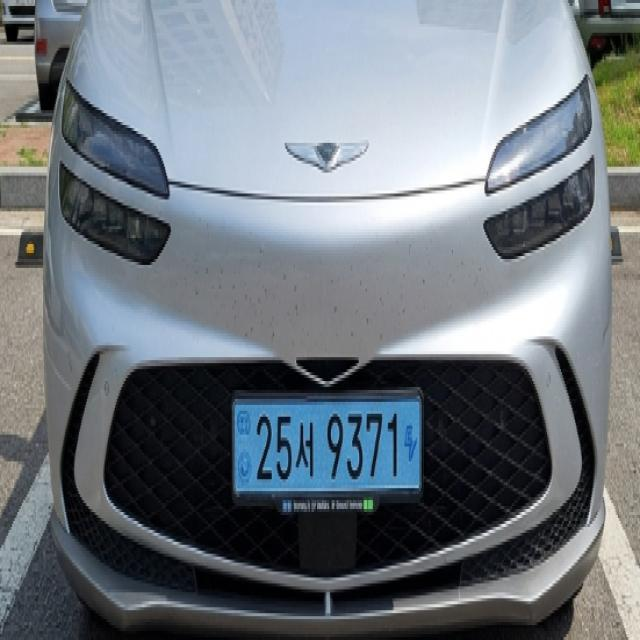car: (224, 372, 445, 536)
carev: (399, 398, 421, 490), (234, 402, 253, 498)
